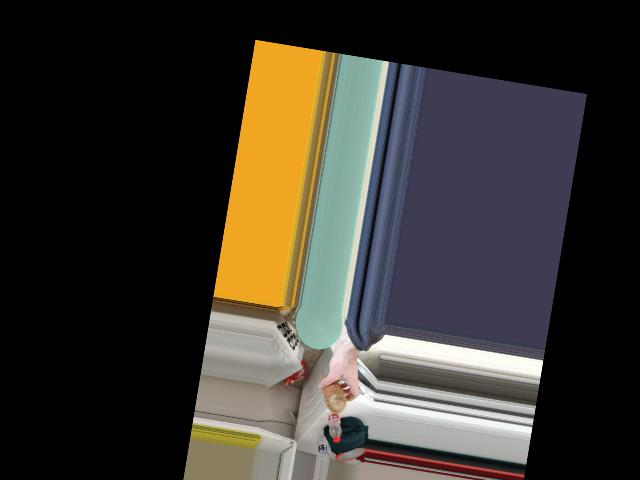sweet_potato: (313, 369, 352, 412)
